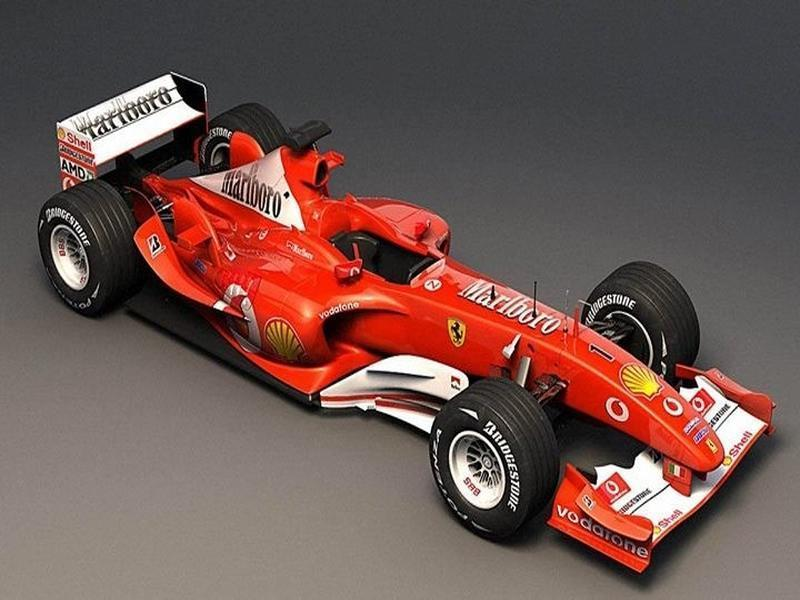f1: (34, 66, 782, 568)
